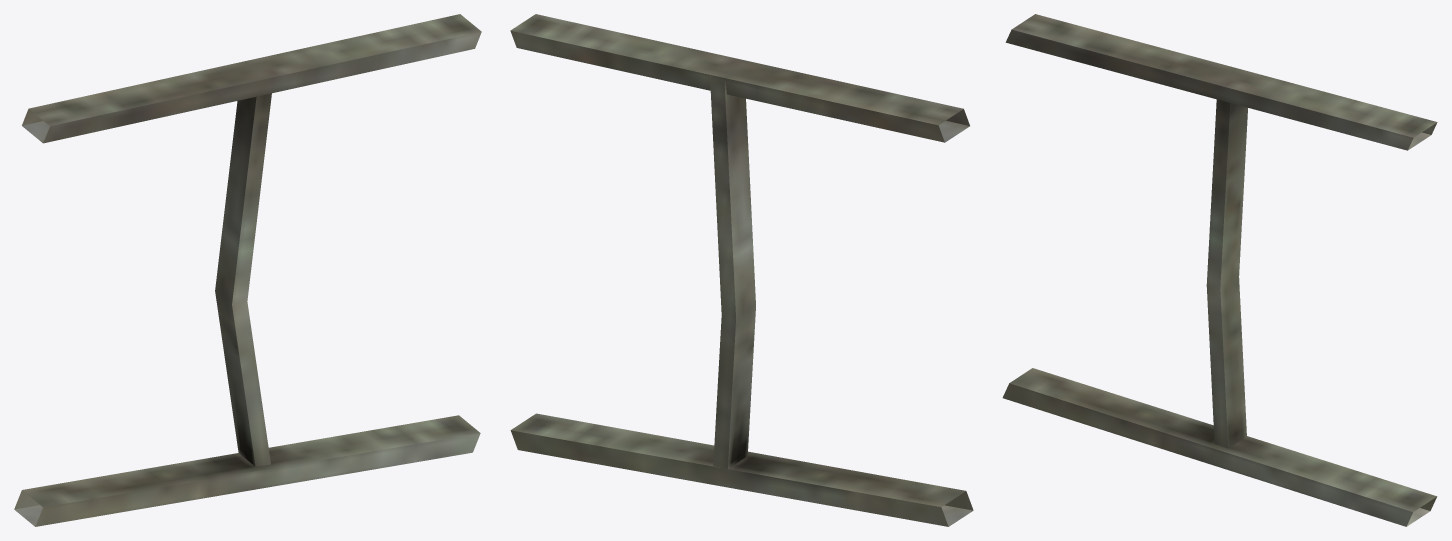
Rendered from RailingsSide.FBX.
3 renders of one model, left to right at view 1: azimuth 30°, elevation 25°; view 2: azimuth 150°, elevation 25°; view 3: azimuth 330°, elevation 25°, orthographic. The views are drawn at different scales.
Visible parts, largest first — view 1: RailingsSide; view 2: RailingsSide; view 3: RailingsSide.
Part boxes in pixels (left/top/right/bottom): RailingsSide: left=14, top=14, right=481, bottom=526; RailingsSide: left=510, top=14, right=973, bottom=526; RailingsSide: left=1002, top=14, right=1437, bottom=526.
Bounding box in the file's own units: 65.02 × 59.9 × 8.24.
